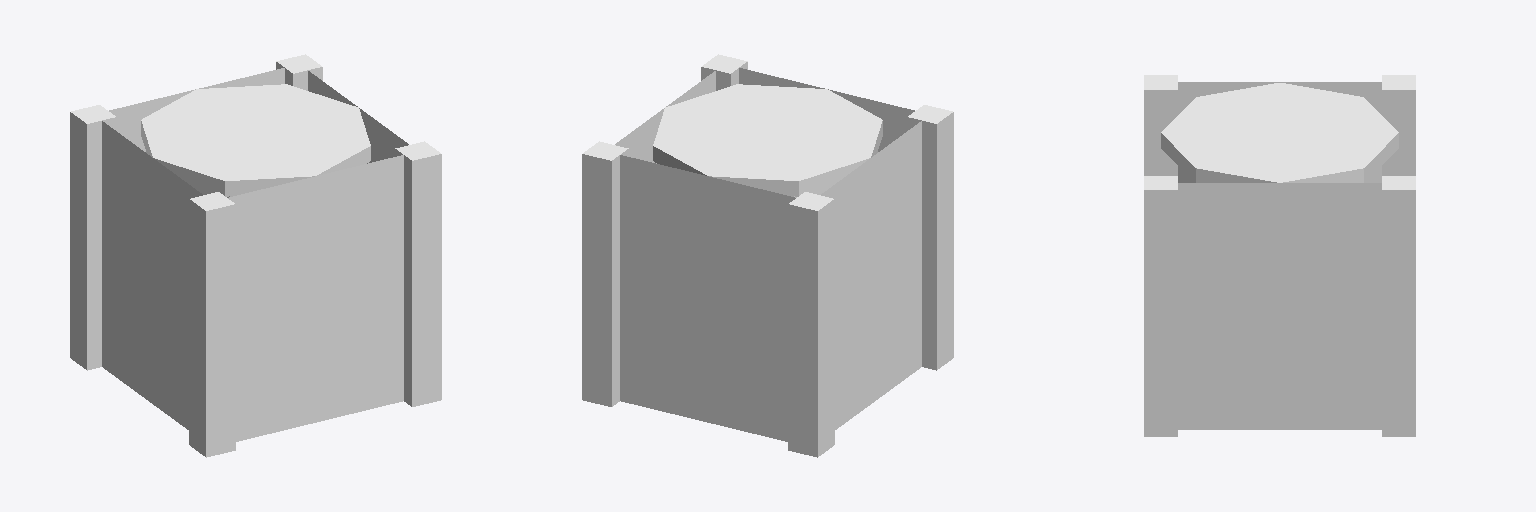
Rendered from pipe_framed_rusty.obj.
3 views of the same model, side by side, from view 1: azimuth 30°, elevation 25°; view 2: azimuth 150°, elevation 25°; view 3: azimuth 270°, elevation 25° (orthographic).
Visible parts, largest first — view 1: Mesh, Frame, Top, Side; view 2: Mesh, Frame, Top, Side; view 3: Mesh, Frame, Top, Side.
Boxes of the visible parts, x1=… form: Mesh: x1=102, y1=68, x2=408, y2=441; Frame: x1=70, y1=54, x2=441, y2=457; Top: x1=141, y1=84, x2=370, y2=180; Side: x1=141, y1=121, x2=370, y2=197; Mesh: x1=615, y1=68, x2=921, y2=441; Frame: x1=582, y1=54, x2=953, y2=457; Top: x1=653, y1=84, x2=882, y2=180; Side: x1=653, y1=121, x2=882, y2=197; Mesh: x1=1178, y1=82, x2=1381, y2=429; Frame: x1=1144, y1=75, x2=1415, y2=436; Top: x1=1161, y1=83, x2=1398, y2=182; Side: x1=1161, y1=133, x2=1398, y2=182.
Bounding box in the file's own units: 1 × 1 × 1.